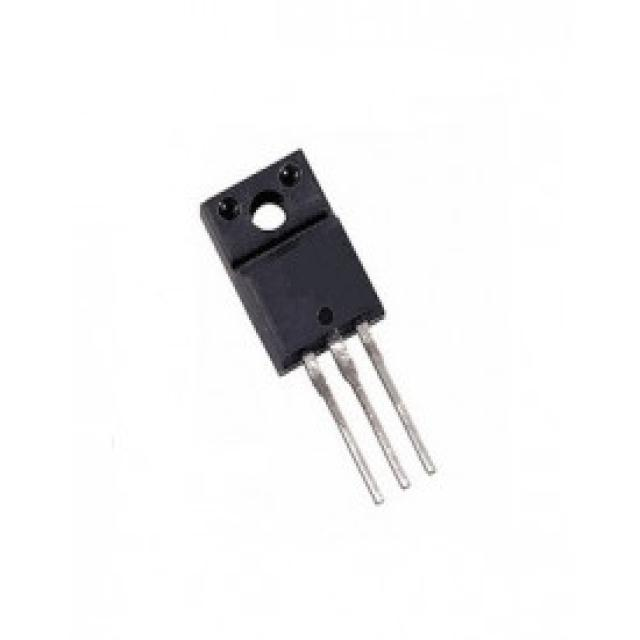Transistor: (200, 150, 440, 510)
